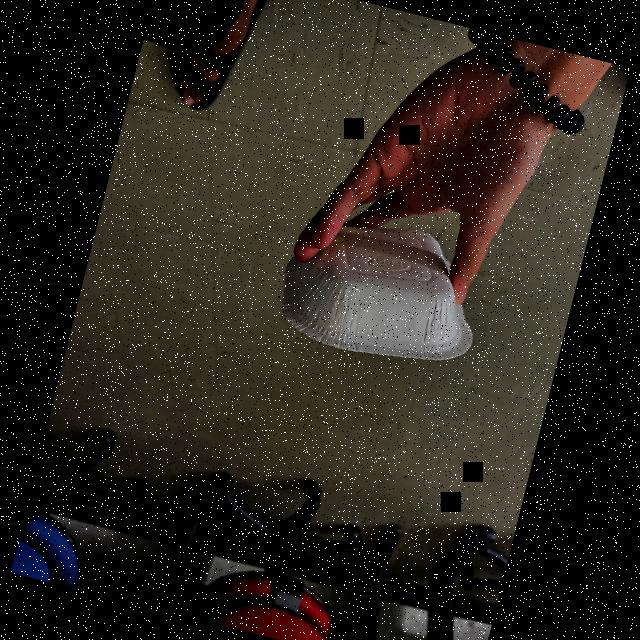cardboard_bowl: (259, 192, 501, 381)
